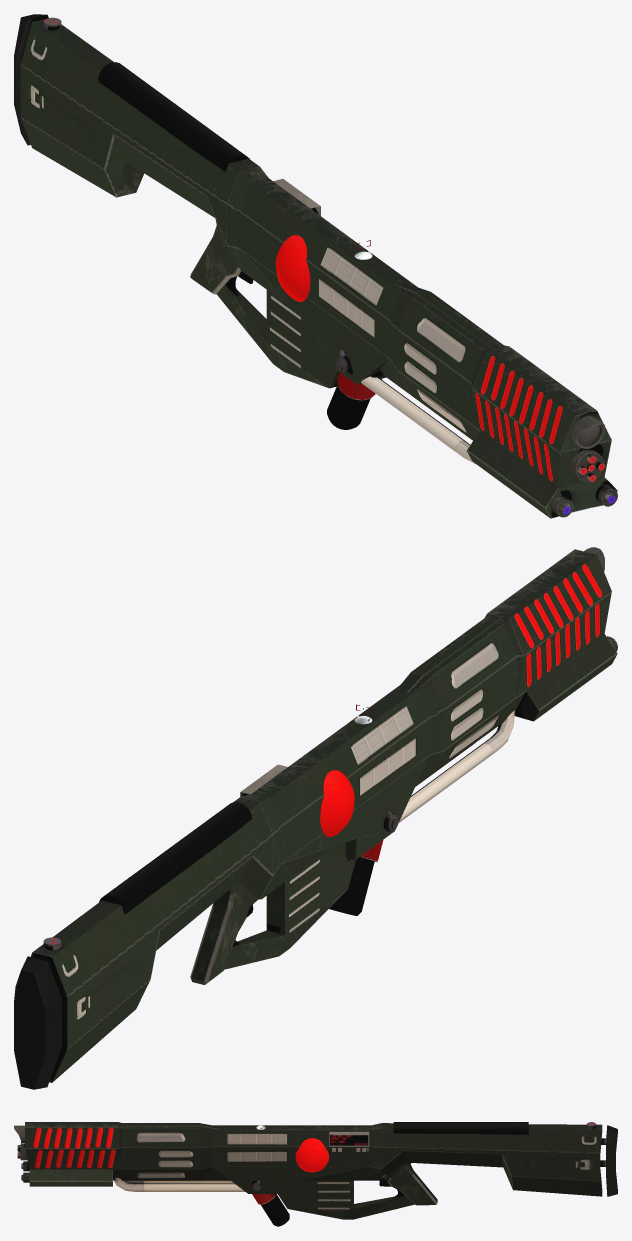
The model's file is LaserGun3.glb.
The picture shows the model from 3 angles, top to bottom: view 1: azimuth 30°, elevation 25°; view 2: azimuth 150°, elevation 25°; view 3: azimuth 270°, elevation 25°; orthographic projection. The views are drawn at different scales.
Visible parts, largest first — view 1: gun; view 2: gun; view 3: gun.
Part boxes in pixels (<box>): gun: <box>14,14,617,518</box>; gun: <box>14,547,617,1089</box>; gun: <box>14,1122,617,1226</box>.
Size of the model in its own units: 0.1476 by 0.3841 by 2.
Materials: 1 (1 with a texture image).
